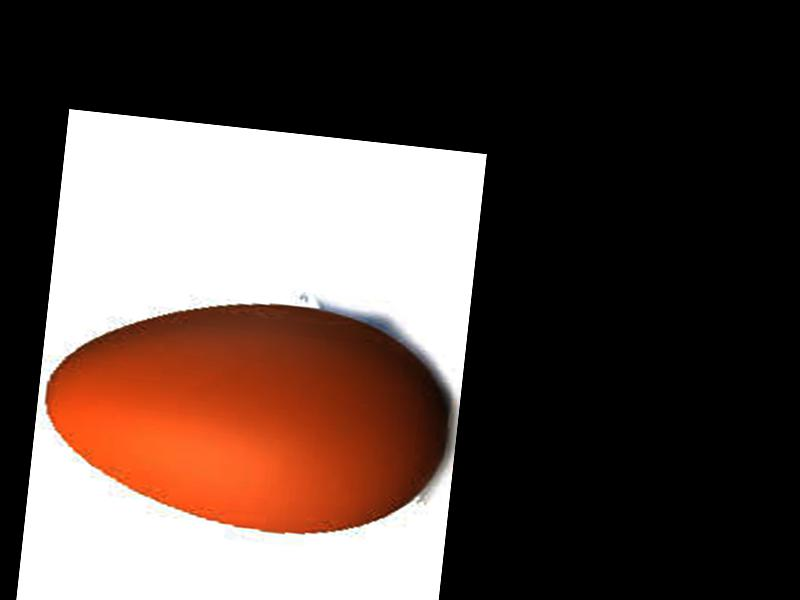Eggs: (36, 282, 458, 549)
